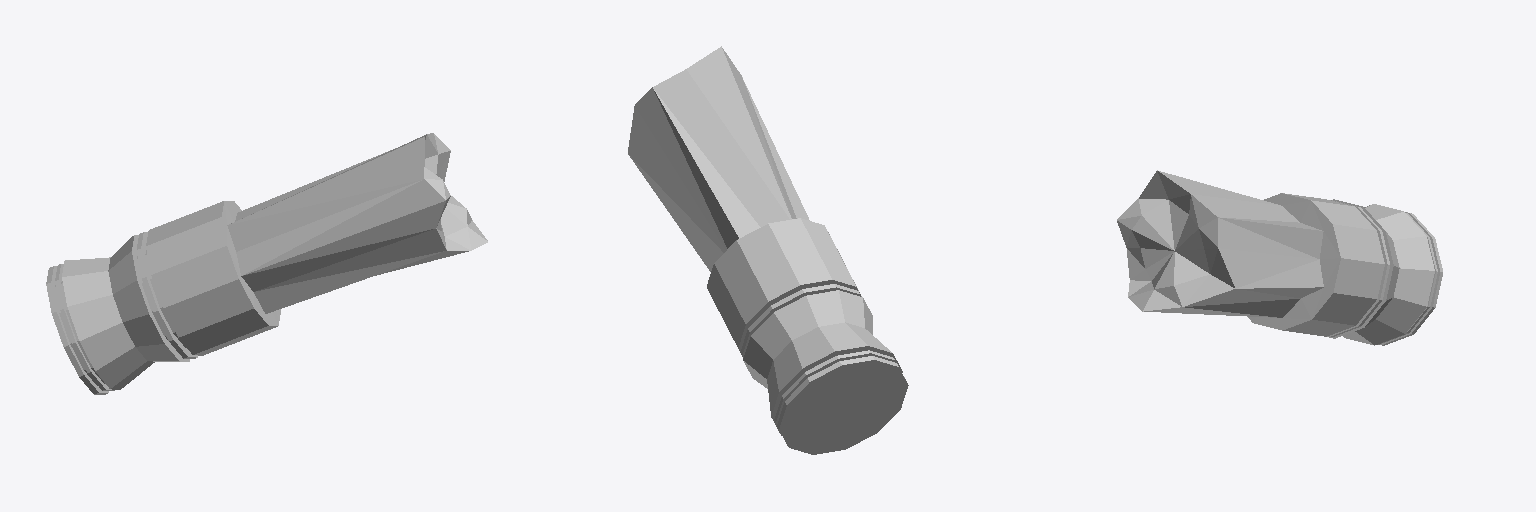
Rendered from piliersol6.obj.
The picture shows the model from 3 angles: view 1: azimuth 30°, elevation 25°; view 2: azimuth 150°, elevation 25°; view 3: azimuth 270°, elevation 25°; orthographic projection.
Size of the model in its own units: 0.8028 by 0.6329 by 0.6773.